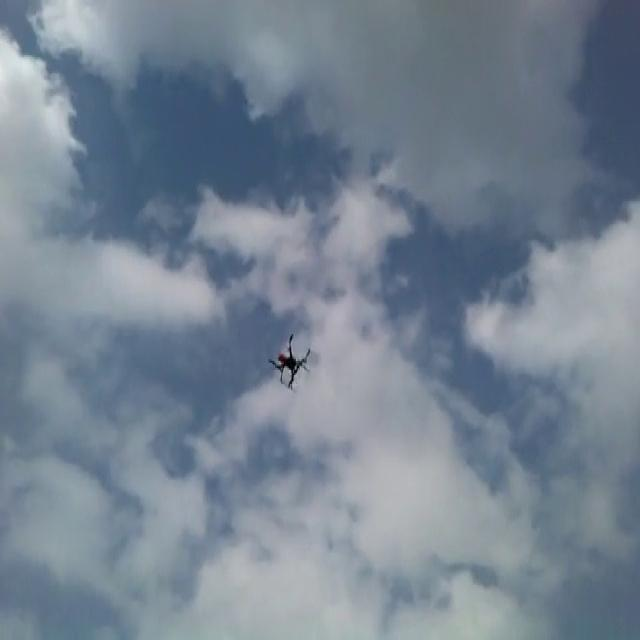drone: (265, 331, 314, 389)
